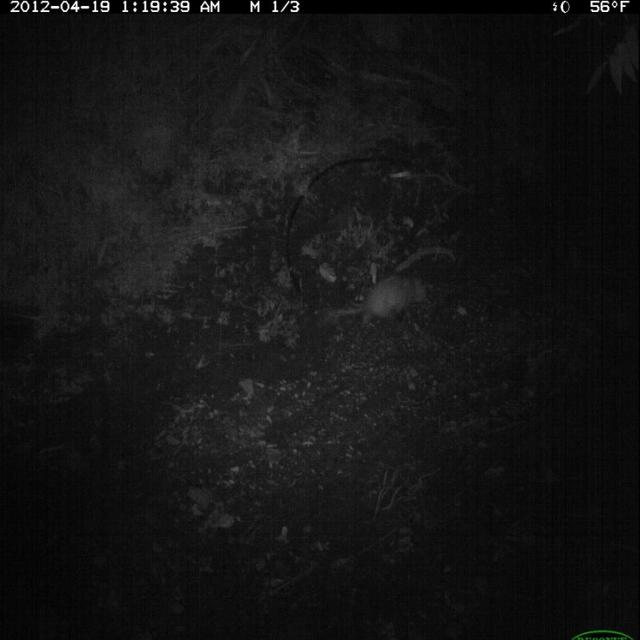opossum: (328, 268, 433, 342)
